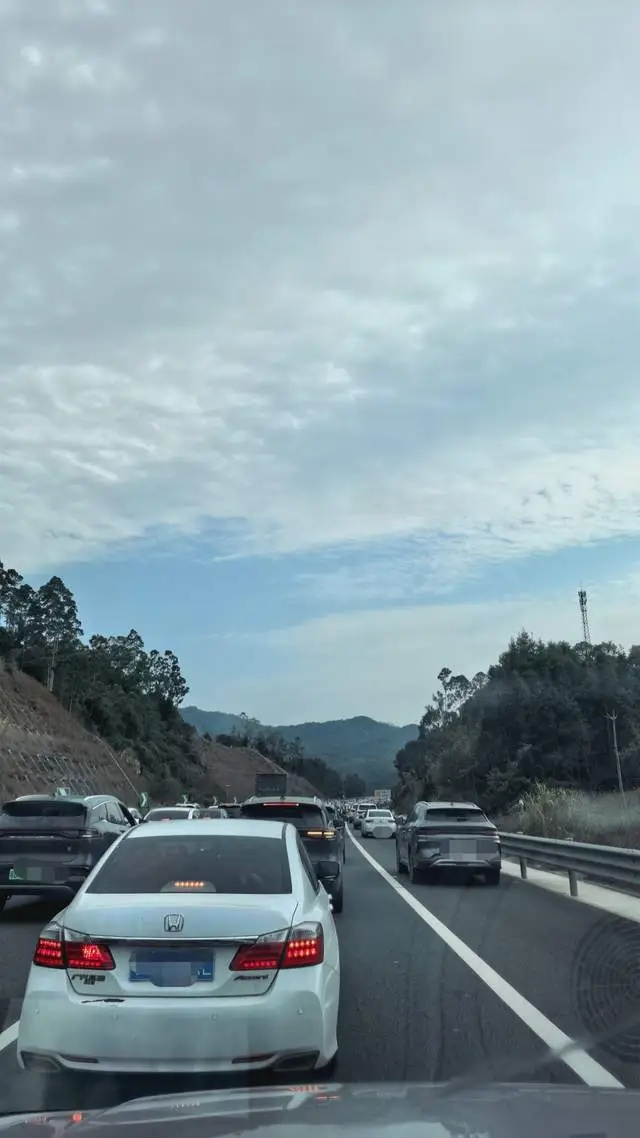lane: (383, 883, 626, 1088), (349, 838, 402, 891)
